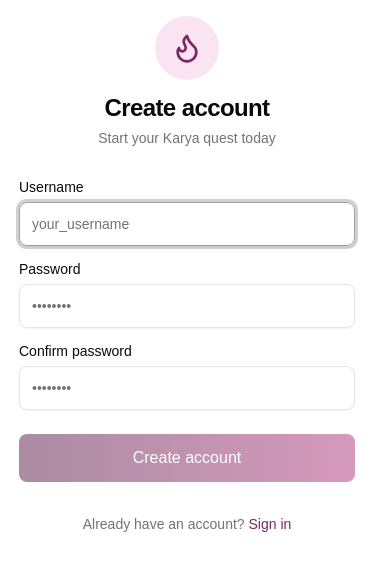
Test: shows username too-short message when fewer than 3 chars typed
The image size is (375, 573).
Type "ab" into the field labelled "Username". click: (187, 224)
box: [19,202,355,246]
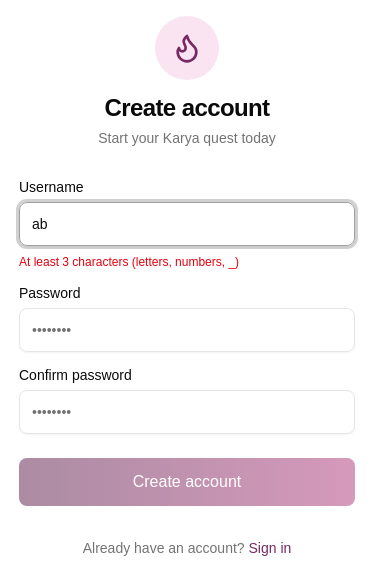
Check: the text "At least 3 characters (letters, numbers, _)" is shown, box [19,255,239,269]
